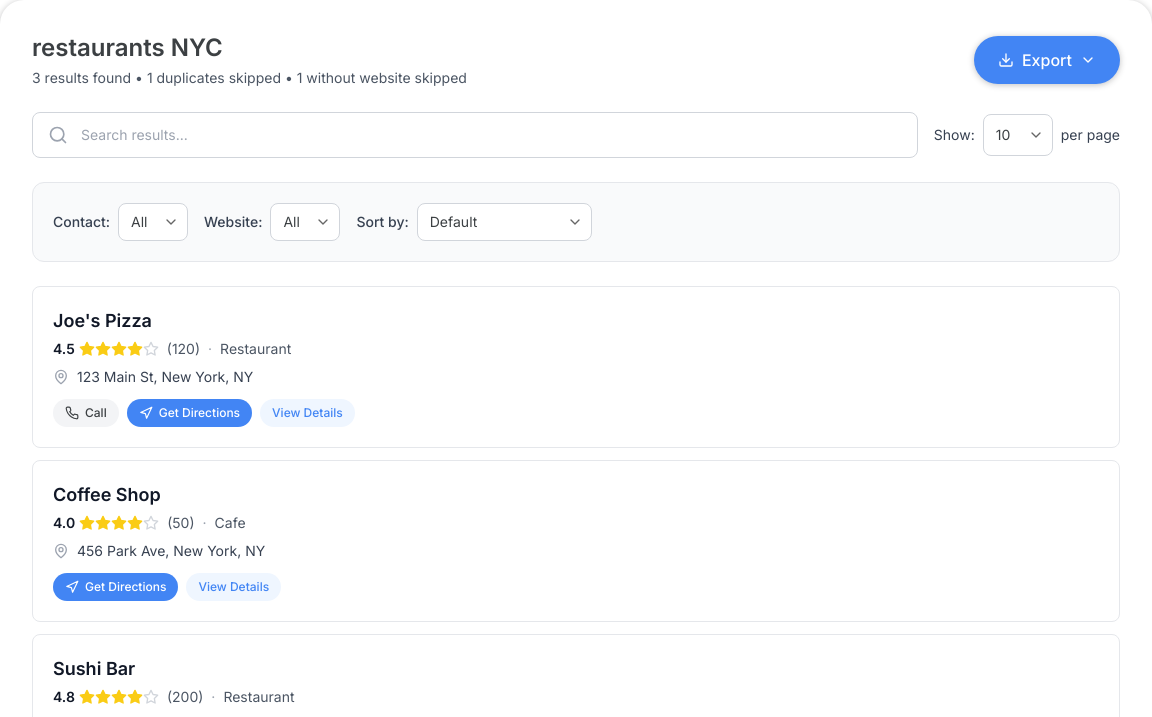
Test: ResultsTable › should filter by website
Select "No" in the dropdown labelled "Website:" at [305, 222], box [270, 203, 340, 241]
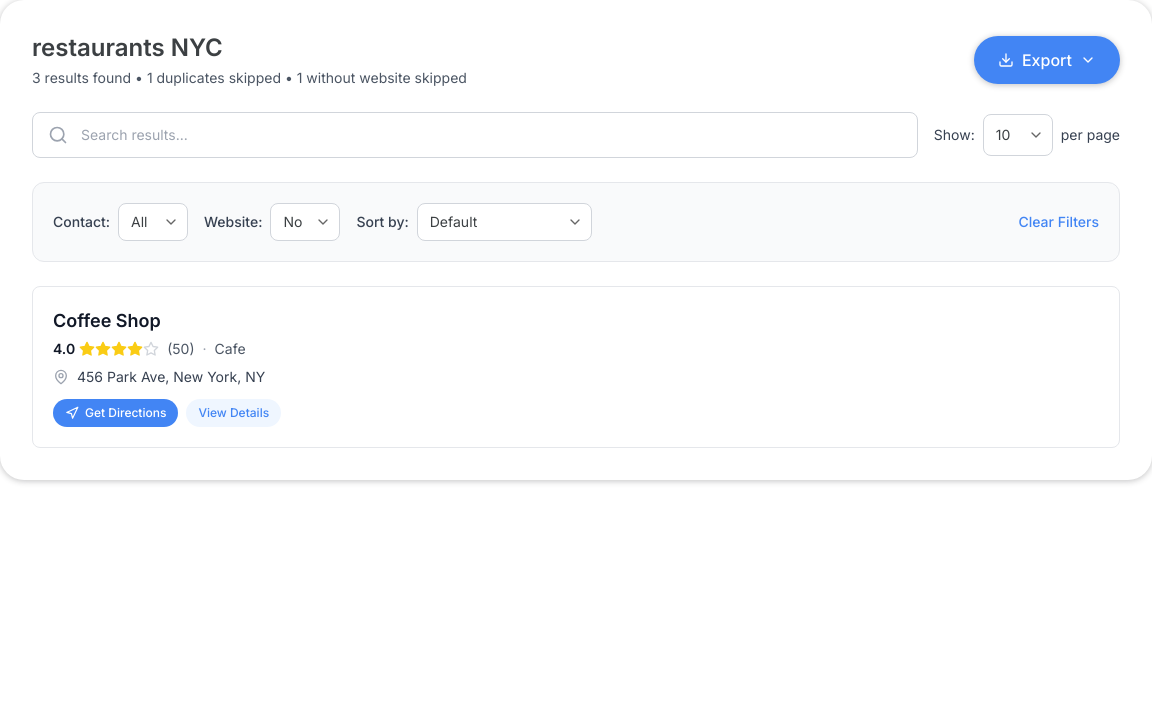
Expected: the heading "Coffee Shop" is shown, [53, 310, 161, 331]
Expected: the heading "Joe's Pizza" is gone
Expected: the heading "Sushi Bar" is gone
